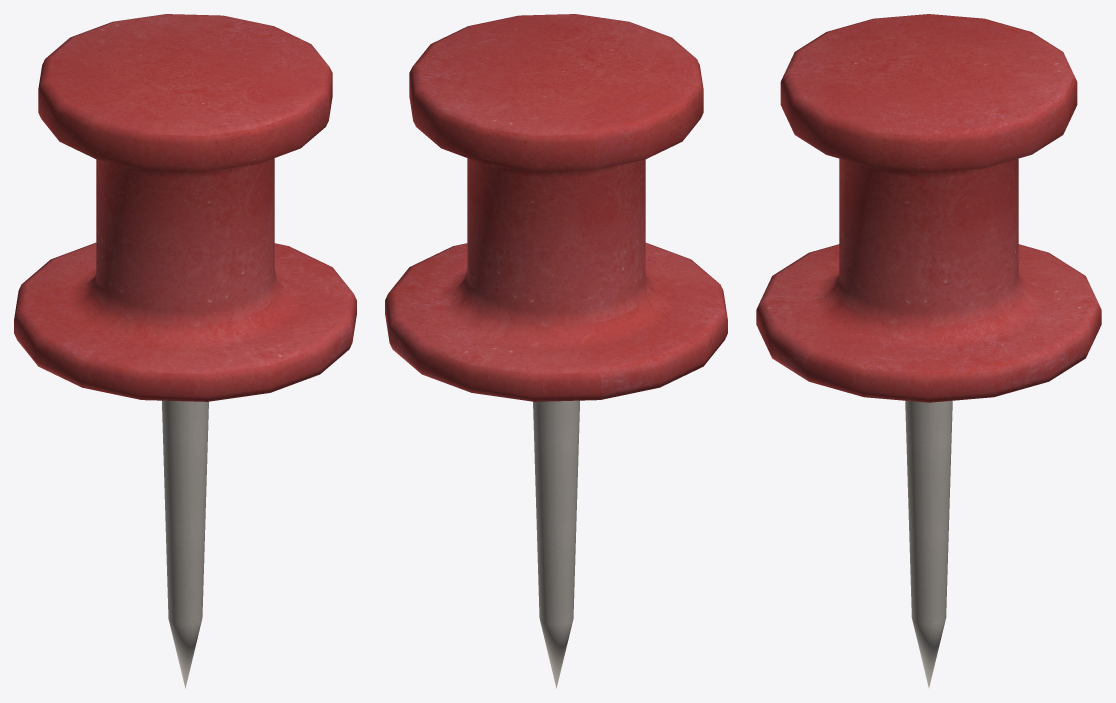
File: Needle.glb
3 views of the same model, side by side, from view 1: azimuth 30°, elevation 25°; view 2: azimuth 150°, elevation 25°; view 3: azimuth 270°, elevation 25° (orthographic).
Parts seen in each view (by area): view 1: Object_2; view 2: Object_2; view 3: Object_2.
Part boxes in pixels (x1=…): Object_2: x1=14, y1=14, x2=356, y2=688; Object_2: x1=385, y1=14, x2=727, y2=688; Object_2: x1=756, y1=14, x2=1101, y2=687.
Size of the model in its own units: 2.23 by 4.38 by 2.23.
Materials: 1 (1 with a texture image).
